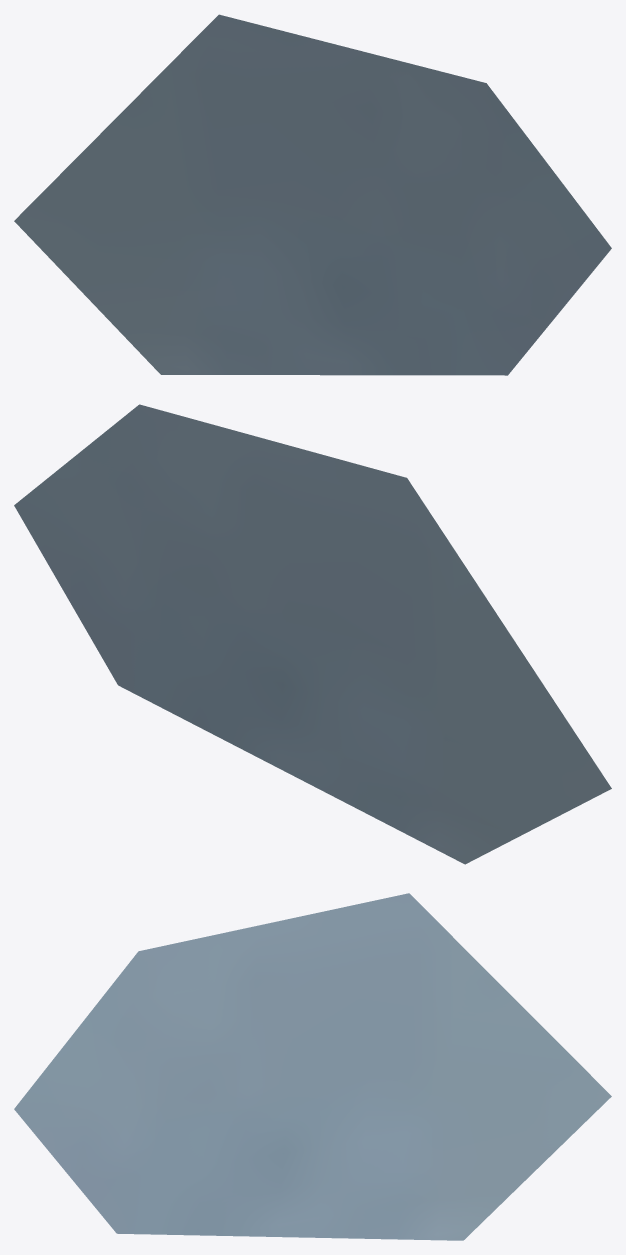
The picture shows the model from 3 angles, top to bottom: view 1: azimuth 30°, elevation 25°; view 2: azimuth 210°, elevation 25°; view 3: azimuth 270°, elevation 25°; orthographic projection. The views are drawn at different scales.
Parts seen in each view (by area): view 1: Tile_1.009; view 2: Tile_1.009; view 3: Tile_1.009.
Part boxes in pixels (bbox=[...]): Tile_1.009: bbox=[14, 14, 611, 375]; Tile_1.009: bbox=[14, 404, 611, 864]; Tile_1.009: bbox=[14, 893, 611, 1240].
Size of the model in its own units: 1.17 by 1.46 by 2.17.
Materials: 1 (1 with a texture image).
